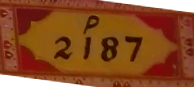1: (76, 35, 96, 61)
2: (48, 34, 73, 63)
7: (121, 33, 146, 63)
8: (98, 35, 120, 63)
P: (79, 12, 100, 35)
